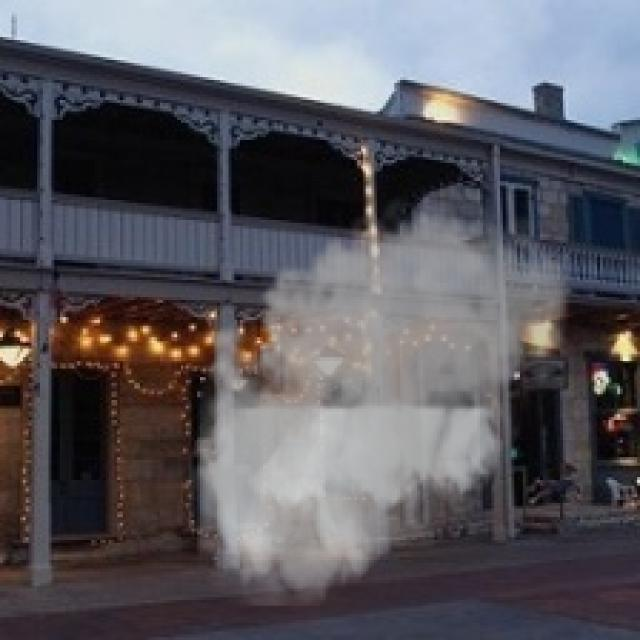smoke: (183, 185, 577, 606)
